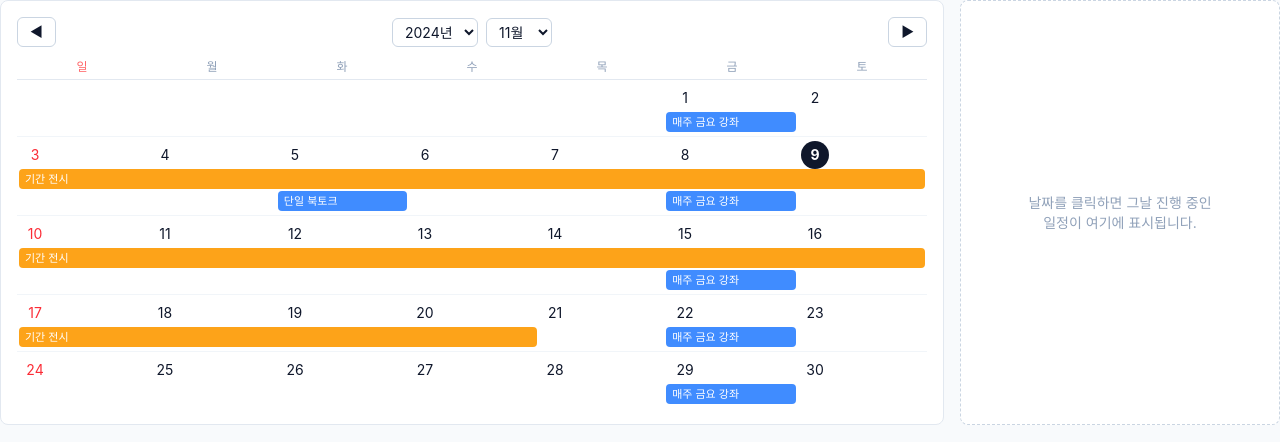
Test: CalendarView — F4~F7 › 월 이동 후 일정 없는 달 안내 (F7)
Click the button named "다음 달".
click(908, 32)  # box [888,17,927,47]
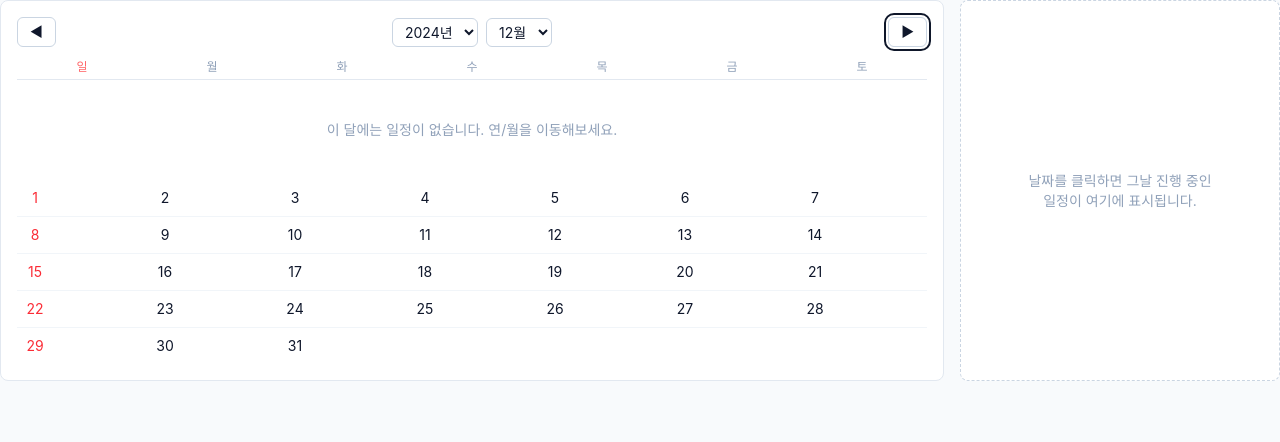
Check: the text "이 달에는 일정이 없습니다. 연/월을 이동해보세요." is shown, box [327,121,617,138]
